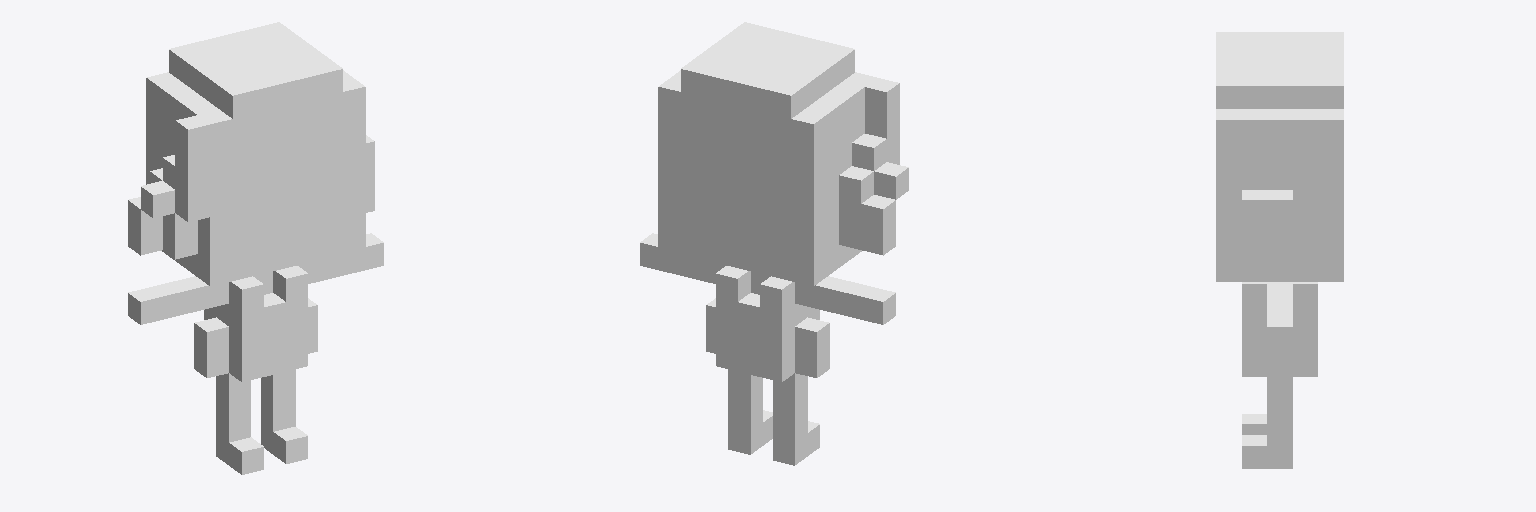
File: robo_kari4.obj
The picture shows the model from 3 angles: view 1: azimuth 30°, elevation 25°; view 2: azimuth 150°, elevation 25°; view 3: azimuth 270°, elevation 25°; orthographic projection.
Visible parts, largest first — view 1: object 1; view 2: object 1; view 3: object 1.
Boxes of the visible parts, box(x1,y1,x2,y2) form: object 1: box(128, 22, 383, 474); object 1: box(640, 22, 908, 465); object 1: box(1216, 32, 1343, 468).
Bounding box in the file's own units: 1.1 × 1.7 × 0.5.